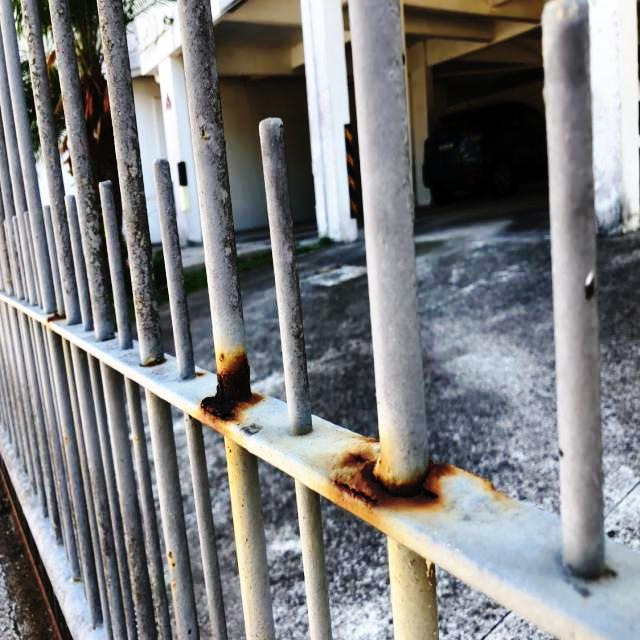Corrosion: (320, 432, 512, 534), (194, 346, 268, 446), (45, 307, 62, 327)
